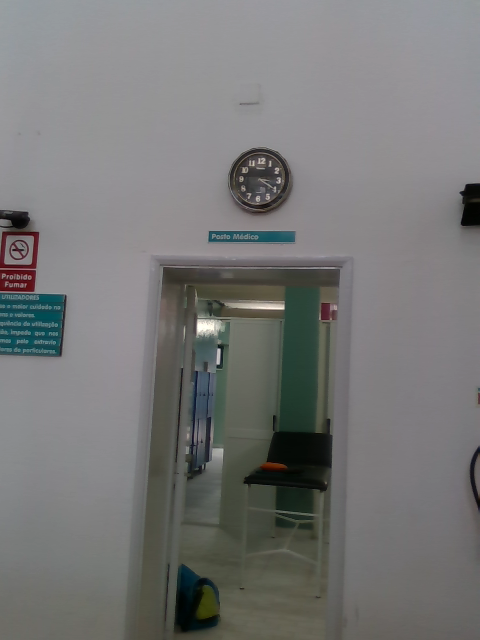open: (126, 250, 350, 639)
